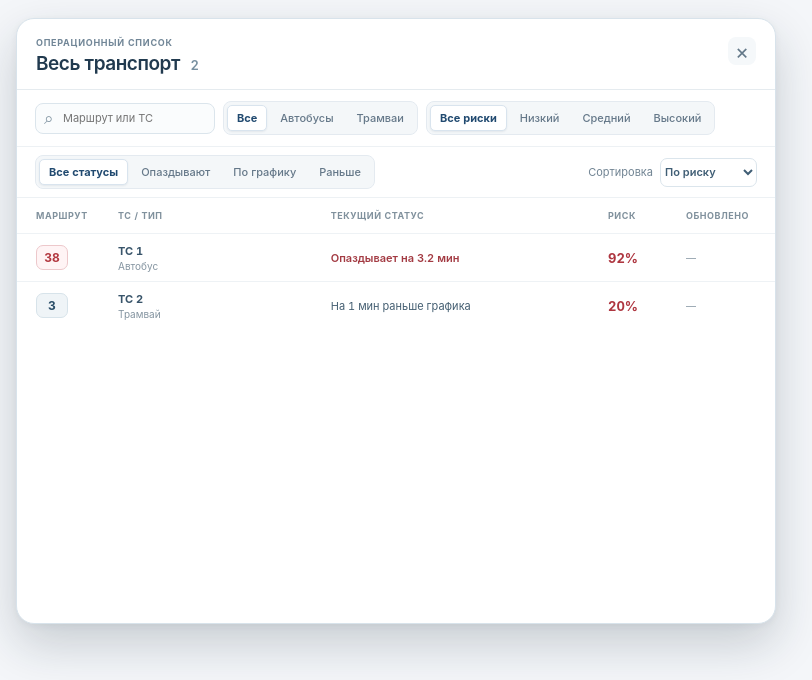
FleetDrawer › filters by search text and shows an empty state
This screenshot has width=812, height=680.
Type "нет такого" into the field named "Поиск транспорта" at (125, 118), box [35,102,215,134]
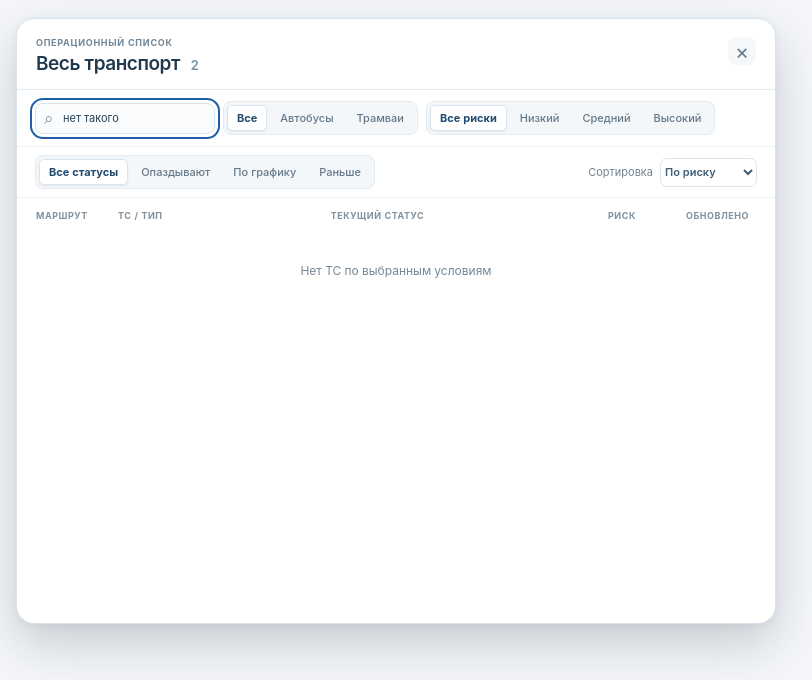
Result: the text "Нет ТС по выбранным условиям" is shown at [300,263,492,278]
